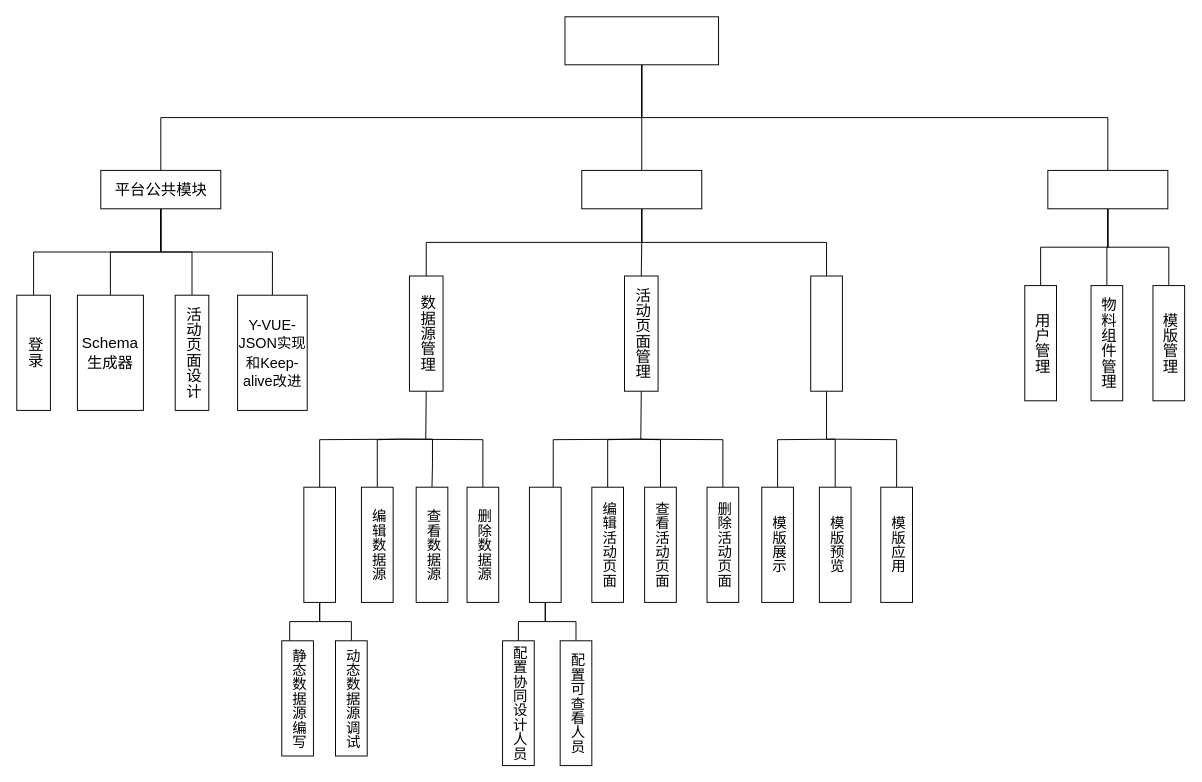
Some shapes in this 1202 by 782 pixel diagram are drawn without their labels. The shapes that lost their labels are listed below. From the top down, each one's centre as x and y in pixels, then its label:
At (x=641, y=40): "活动页面搭建平台".
At (x=641, y=189): "用户模块".
At (x=1107, y=189): "后台管理模块".
At (x=826, y=333): "模版库".
At (x=319, y=544): "新增数据源".
At (x=544, y=544): "新增活动页面".
